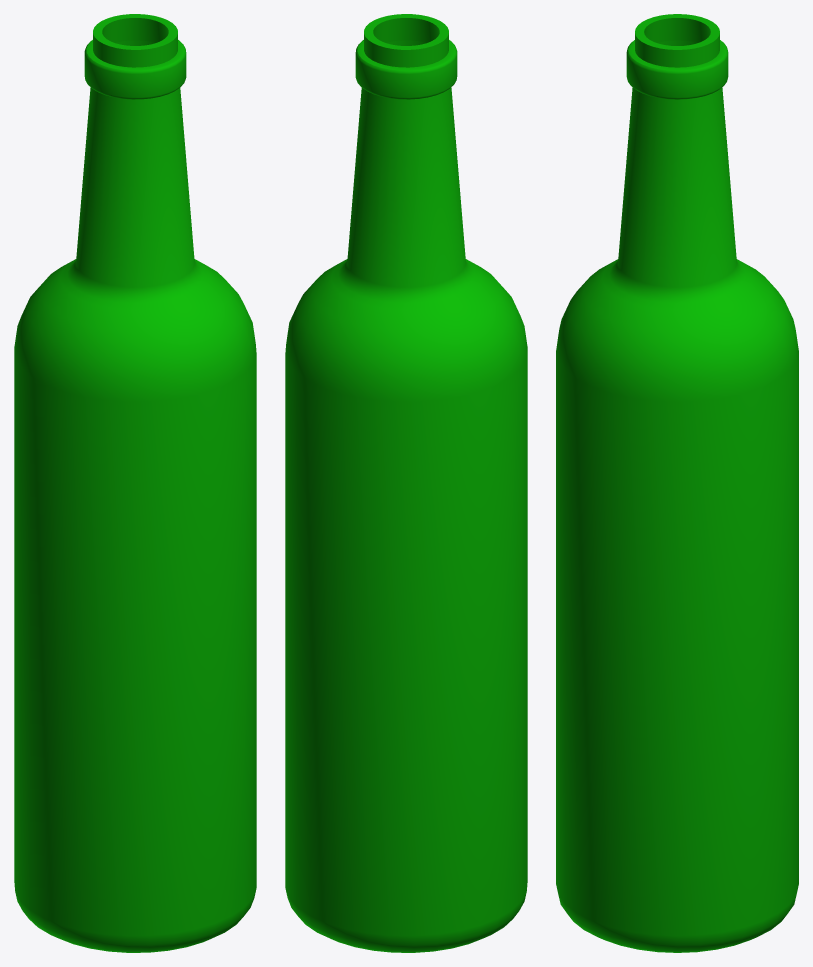
File: Glass Bottle.fbx
The picture shows the model from 3 angles, left to right: view 1: azimuth 30°, elevation 25°; view 2: azimuth 150°, elevation 25°; view 3: azimuth 270°, elevation 25°; orthographic projection.
Parts seen in each view (by area): view 1: Botol Kaca; view 2: Botol Kaca; view 3: Botol Kaca.
Boxes of the visible parts, x1,y1,x2,y2 form: Botol Kaca: [14, 14, 256, 952]; Botol Kaca: [285, 14, 527, 952]; Botol Kaca: [556, 14, 798, 952].
Bounding box in the file's own units: 105 × 420 × 105.
